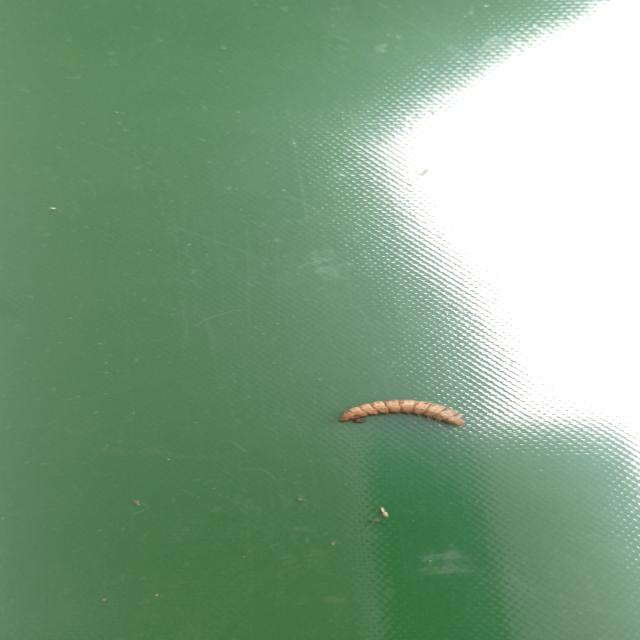Maggot: (337, 399, 465, 429)
